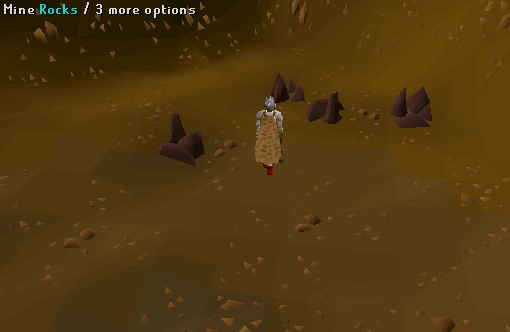iron: (151, 108, 218, 172), (381, 74, 448, 138), (301, 87, 348, 133)
